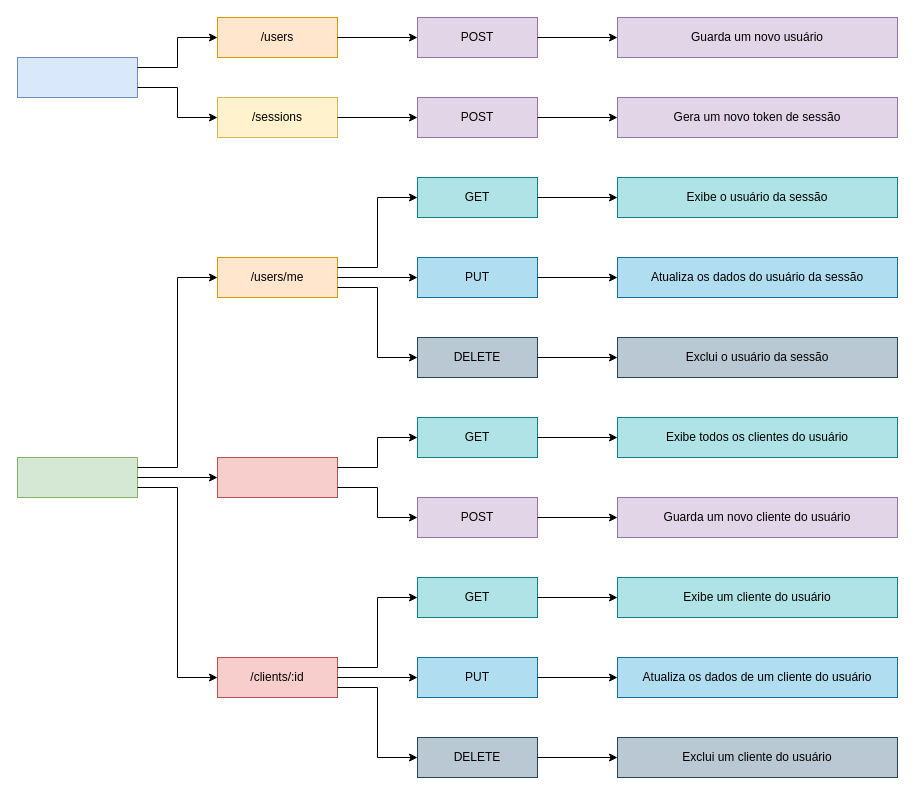
Image size: 915x795. Some labels were removed from this diagram. The shapes that lost their labels are listed below. From the top down, each one's centre as x and y in pixels, then its label:
At point (77, 77): "Não precisa estar autenticado".
At point (77, 477): "Precisa estar autenticado".
At point (277, 477): "/clients".
